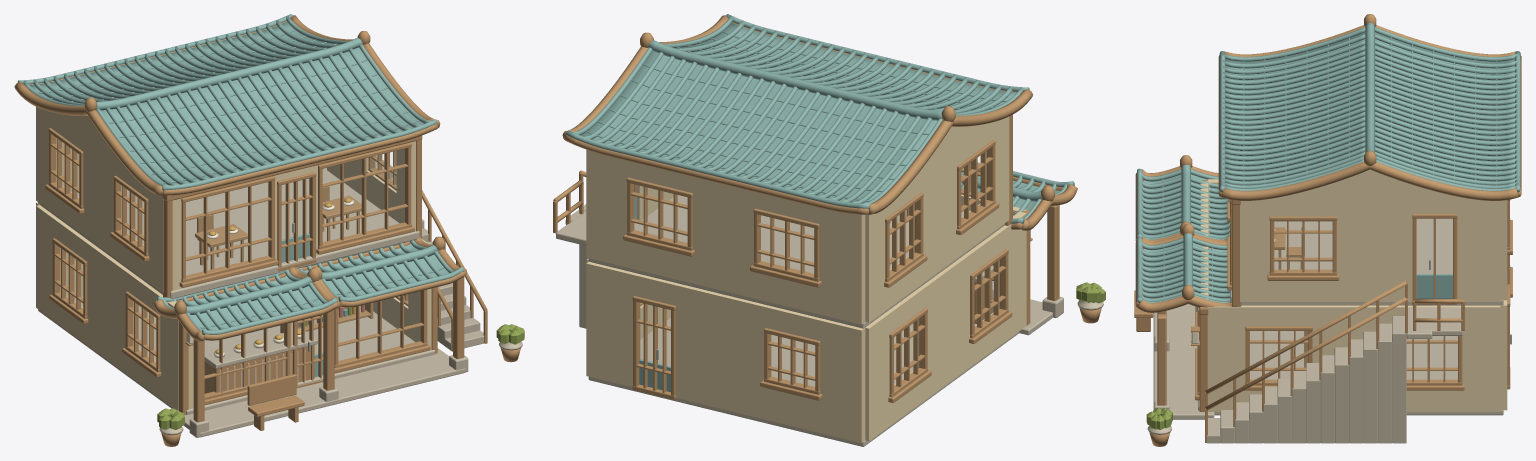
File: 08-A-8d78d0b9abb5.glb
3 renders of one model, left to right at view 1: azimuth 30°, elevation 25°; view 2: azimuth 150°, elevation 25°; view 3: azimuth 270°, elevation 25°, orthographic. The views are drawn at different scales.
Parts seen in each view (by area): view 1: SM_08_02_曲面屋顶, SM_08_01_建筑墙体, SM_08_04_门窗楼梯, SM_08_06_景观设施, SM_08_03_木构回廊, SM_08_05_景观植物; view 2: SM_08_01_建筑墙体, SM_08_02_曲面屋顶, SM_08_04_门窗楼梯, SM_08_03_木构回廊, SM_08_05_景观植物; view 3: SM_08_02_曲面屋顶, SM_08_01_建筑墙体, SM_08_04_门窗楼梯, SM_08_03_木构回廊, SM_08_06_景观设施, SM_08_05_景观植物.
Boxes of the visible parts, box(x1,y1,x2,y2) form: SM_08_02_曲面屋顶: box(14, 14, 466, 341); SM_08_01_建筑墙体: box(36, 106, 465, 437); SM_08_04_门窗楼梯: box(45, 128, 487, 404); SM_08_06_景观设施: box(195, 186, 373, 430); SM_08_03_木构回廊: box(162, 135, 468, 437); SM_08_05_景观植物: box(157, 324, 524, 446); SM_08_01_建筑墙体: box(586, 116, 1052, 446); SM_08_02_曲面屋顶: box(562, 14, 1077, 230); SM_08_04_门窗楼梯: box(553, 140, 1032, 402); SM_08_03_木构回廊: box(1005, 114, 1063, 325); SM_08_05_景观植物: box(1076, 282, 1105, 323); SM_08_02_曲面屋顶: box(1135, 14, 1521, 312); SM_08_01_建筑墙体: box(1153, 169, 1507, 419); SM_08_04_门窗楼梯: box(1191, 199, 1512, 443); SM_08_03_木构回廊: box(1154, 180, 1241, 411); SM_08_06_景观设施: box(1134, 227, 1308, 367); SM_08_05_景观植物: box(1146, 408, 1172, 446).
Size of the model in its own units: 10.72 by 7.39 by 9.58.
